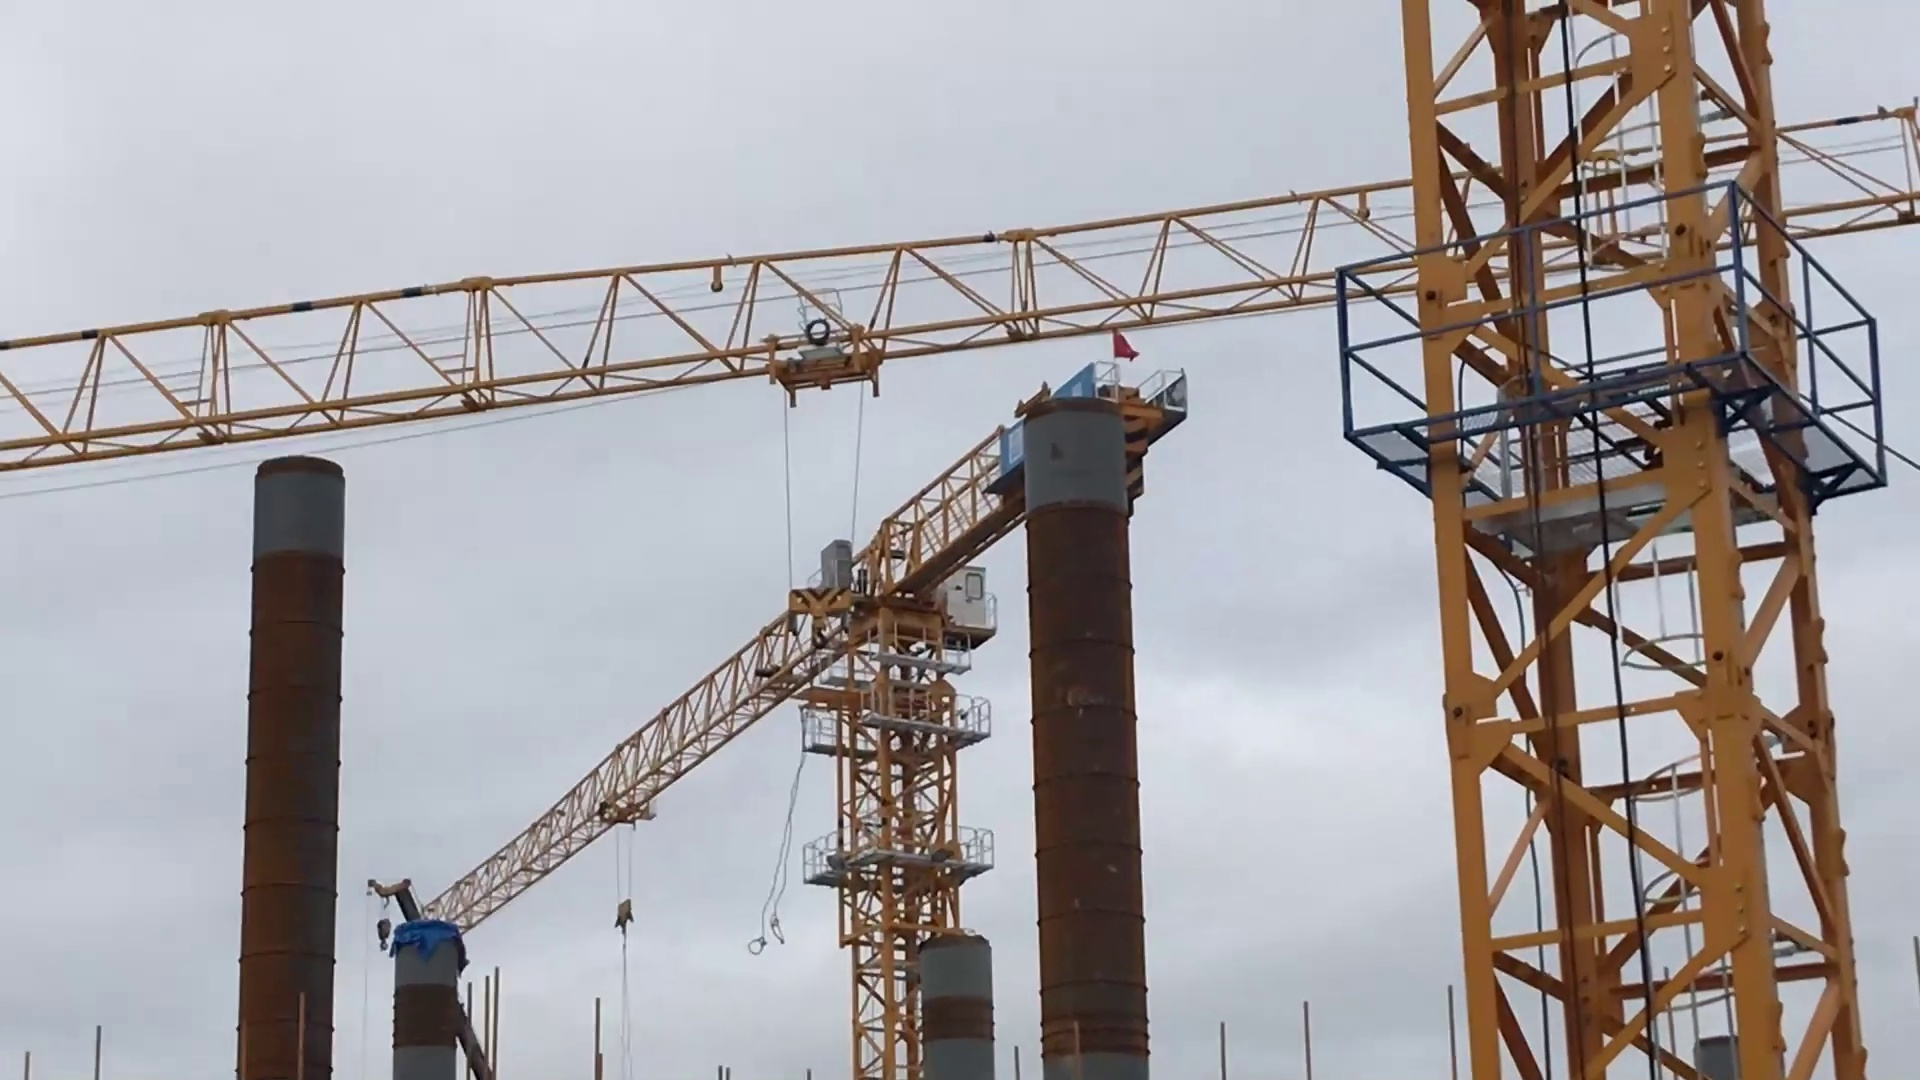hook: (774, 568, 882, 654)
